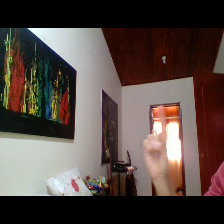2T: (133, 102, 178, 182)
